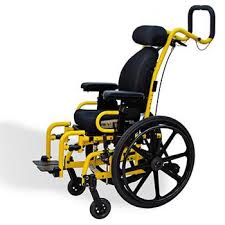wheelchair: (36, 6, 216, 223)
